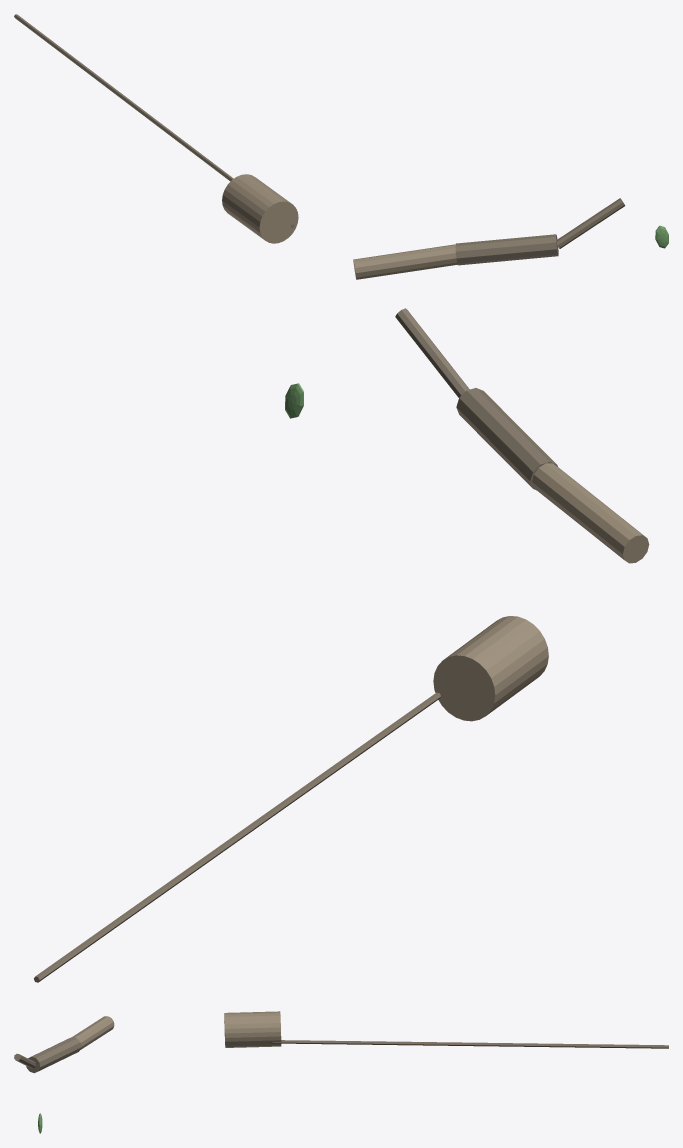
The model's file is tree_realistic_1.glb.
The picture shows the model from 3 angles, top to bottom: view 1: azimuth 30°, elevation 25°; view 2: azimuth 150°, elevation 25°; view 3: azimuth 270°, elevation 25°; orthographic projection. The views are drawn at different scales.
Visible parts, largest first — view 1: tapered trunk, secondary branch, primary branch, bark ridge, twig; view 2: tapered trunk, primary branch, secondary branch, bark ridge, twig; view 3: tapered trunk, bark ridge, secondary branch, primary branch.
Boxes of the visible parts, x1=… form: tapered trunk: x1=222, y1=174, x2=298, y2=243; secondary branch: x1=455, y1=234, x2=558, y2=265; primary branch: x1=353, y1=244, x2=457, y2=279; bark ridge: x1=14, y1=14, x2=294, y2=227; twig: x1=556, y1=198, x2=625, y2=248; tapered trunk: x1=433, y1=616, x2=548, y2=721; primary branch: x1=532, y1=463, x2=649, y2=563; secondary branch: x1=456, y1=388, x2=557, y2=490; bark ridge: x1=34, y1=692, x2=440, y2=982; twig: x1=395, y1=308, x2=469, y2=397; tapered trunk: x1=224, y1=1011, x2=281, y2=1047; bark ridge: x1=225, y1=1039, x2=668, y2=1048; secondary branch: x1=26, y1=1037, x2=80, y2=1073; primary branch: x1=72, y1=1016, x2=114, y2=1049.
Bounding box in the file's own units: 1.77 × 0.5327 × 4.45.
